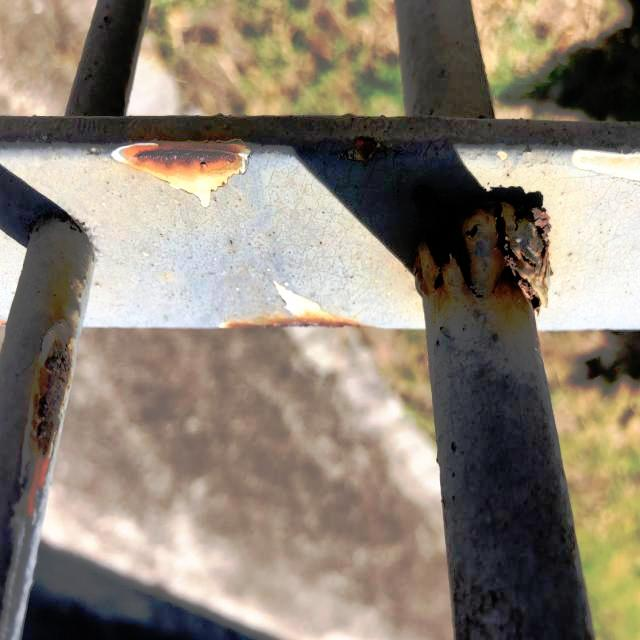Corrosion: (408, 186, 557, 340), (25, 315, 75, 499), (116, 137, 246, 200), (221, 312, 376, 328), (348, 130, 384, 166)
